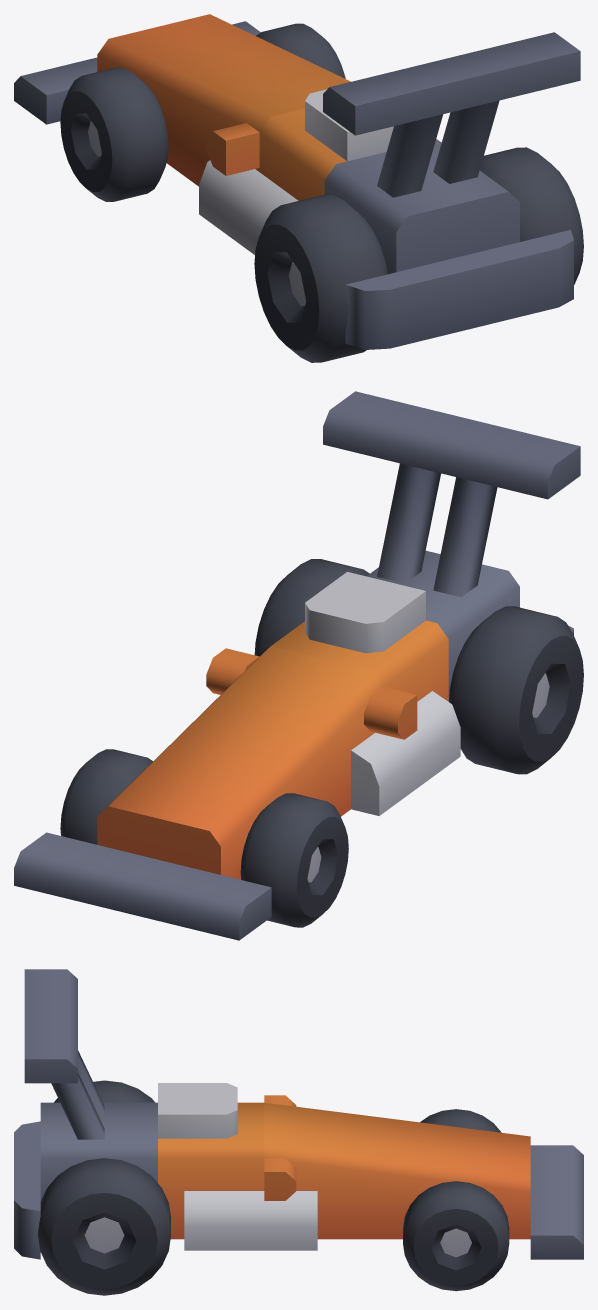
File: toy-drag-racer.glb
3 views of the same model, one above another, from view 1: azimuth 30°, elevation 25°; view 2: azimuth 150°, elevation 25°; view 3: azimuth 270°, elevation 25° (orthographic). The views are drawn at different scales.
Visible parts, largest first — view 1: vehicle-drag-racer, wheel-bl, wheel-fl, wheel-br, wheel-fr; view 2: vehicle-drag-racer, wheel-bl, wheel-fl, wheel-fr, wheel-br; view 3: vehicle-drag-racer, wheel-br, wheel-fr, wheel-fl, wheel-bl.
Part boxes in pixels (x1,y1,x2,y2): vehicle-drag-racer: (14, 14, 580, 349); wheel-bl: (254, 195, 387, 362); wheel-fl: (60, 67, 168, 201); wheel-br: (479, 147, 583, 284); wheel-fr: (256, 23, 345, 78); vehicle-drag-racer: (14, 391, 580, 940); wheel-bl: (449, 606, 583, 774); wheel-fl: (240, 793, 348, 927); wheel-fr: (60, 749, 152, 844); wheel-br: (254, 559, 369, 656); vehicle-drag-racer: (14, 969, 583, 1259); wheel-br: (38, 1158, 170, 1295); wheel-fr: (403, 1181, 509, 1291); wheel-fl: (420, 1109, 501, 1132); wheel-bl: (54, 1080, 154, 1102).
Bounding box in the file's own units: 0.5875 × 0.6063 × 1.34.
